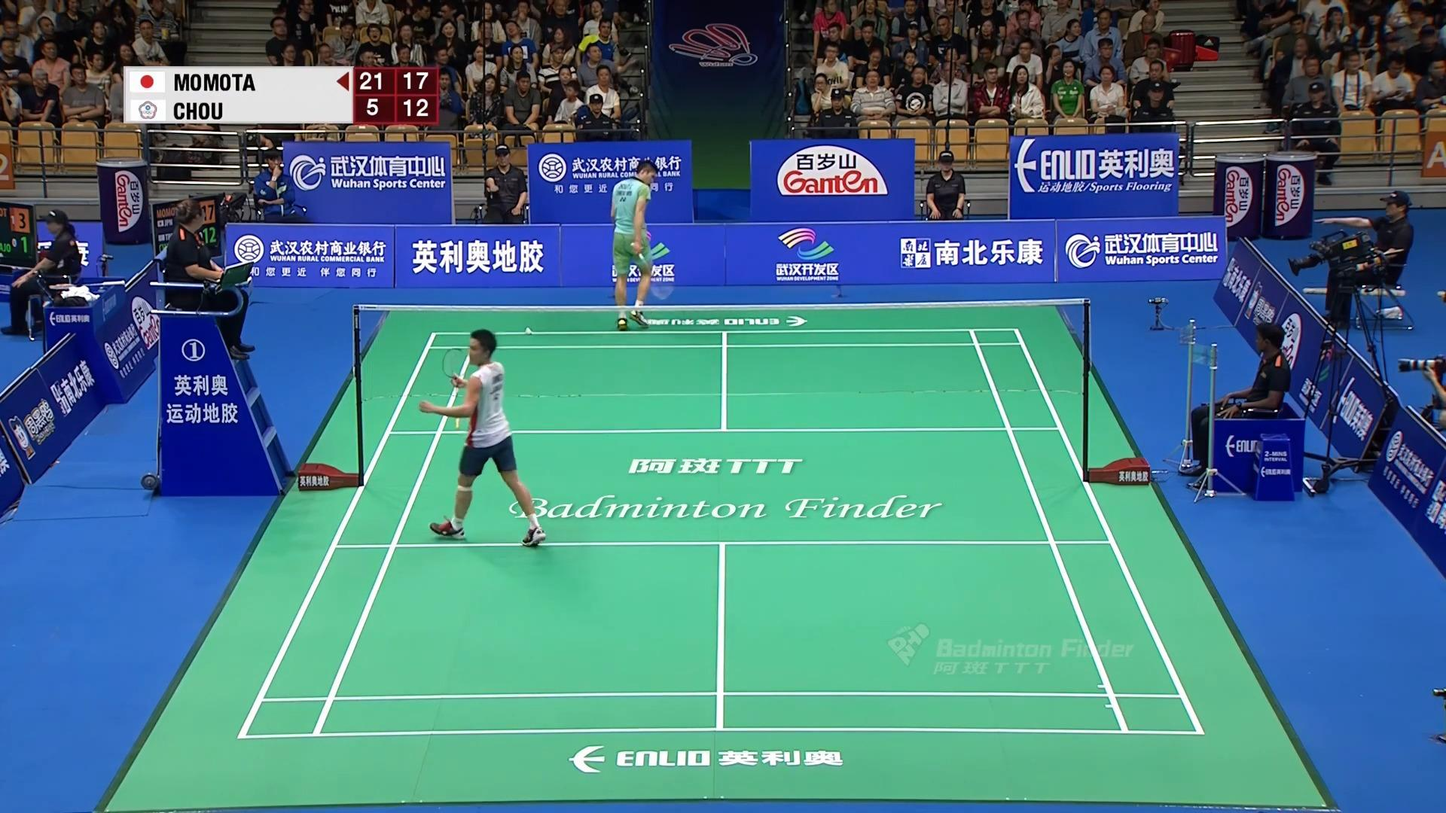player: (419, 330, 547, 548), (611, 158, 659, 332)
